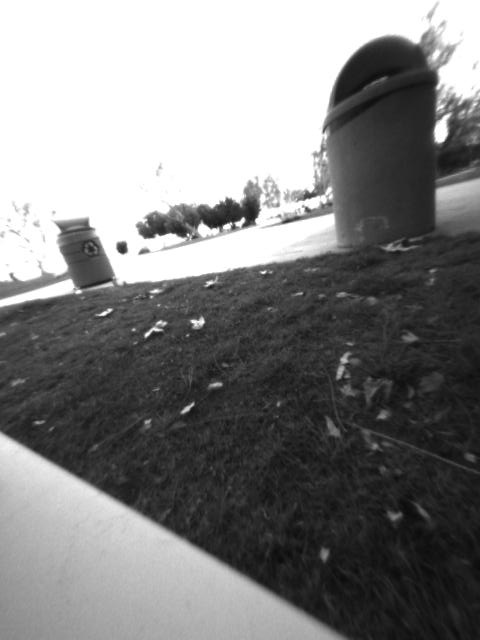trashcan: (321, 31, 440, 245)
